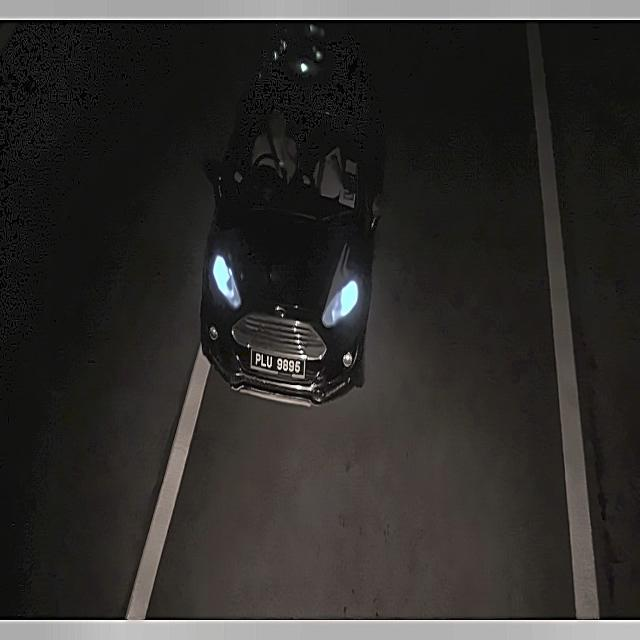car: (244, 340, 309, 388)
